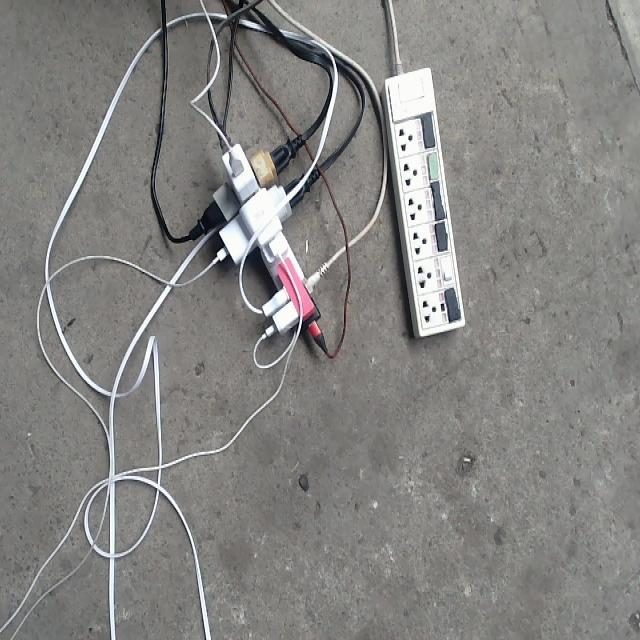-: (187, 130, 326, 342)
